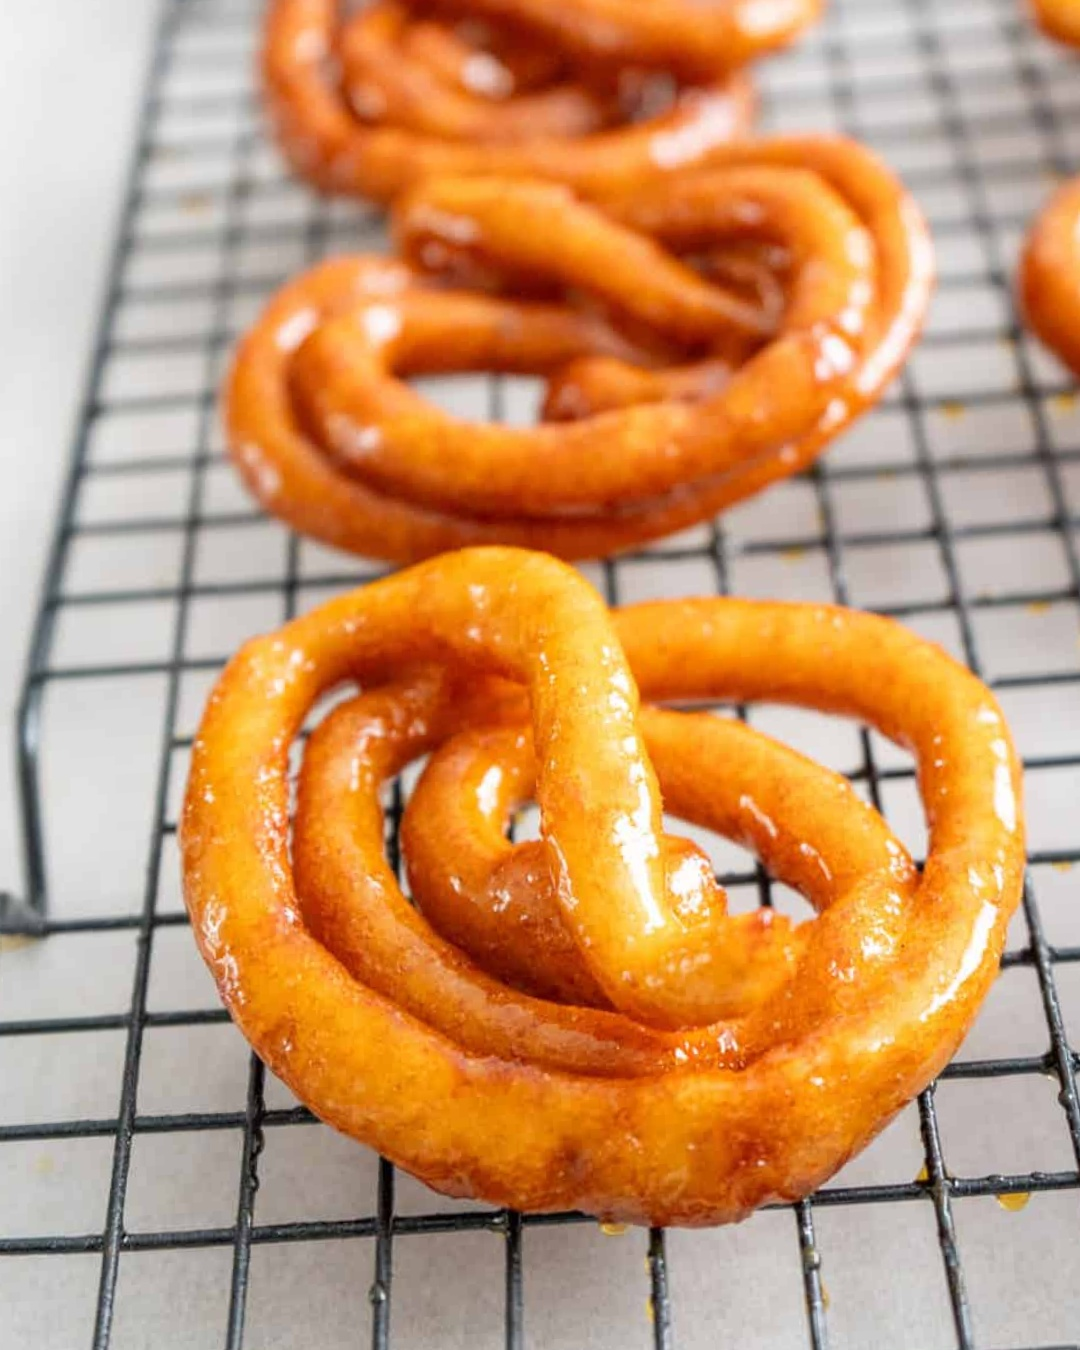pani_walalu: (168, 504, 1059, 1275), (209, 114, 955, 555)
